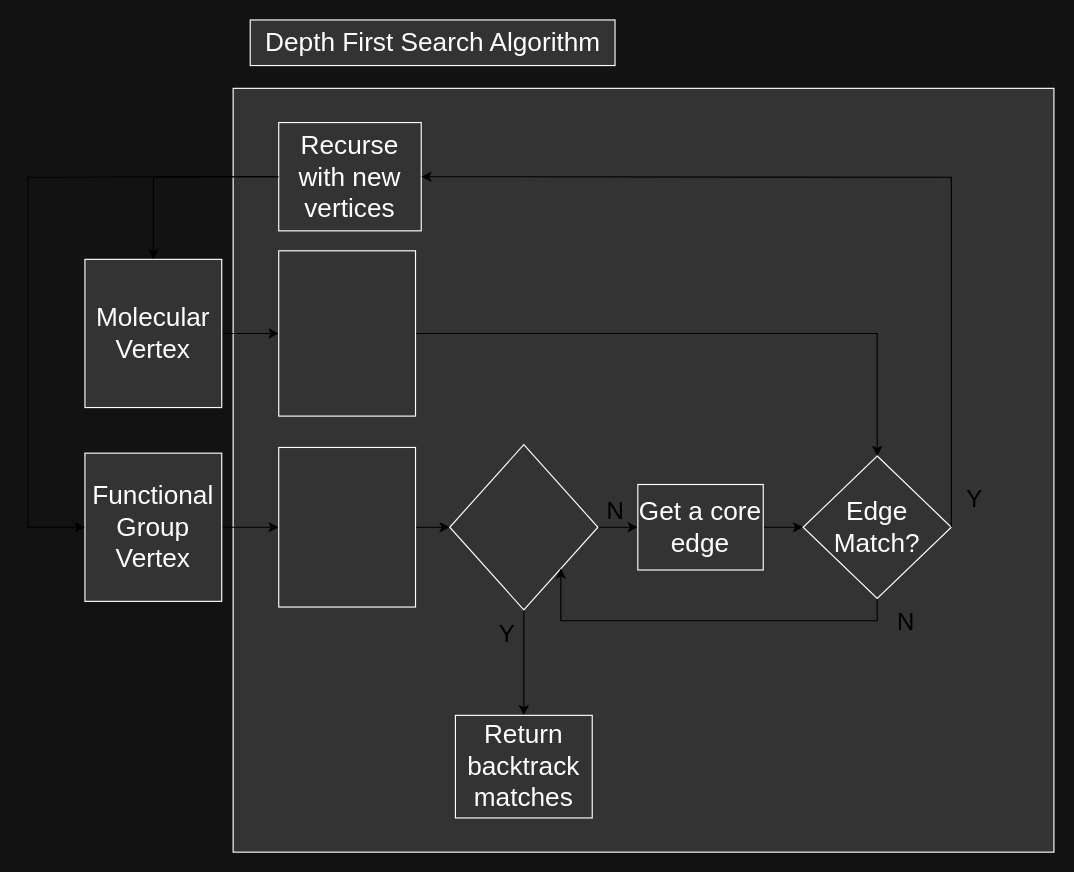
Some shapes in this 1074 by 872 pixel diagram are drawn without their labels. Each missing label, with the centre of its shape:
"Empty?" goes at point (523, 526).
"Get available core edges" goes at point (347, 526).
"Get available edges" goes at point (347, 333).
